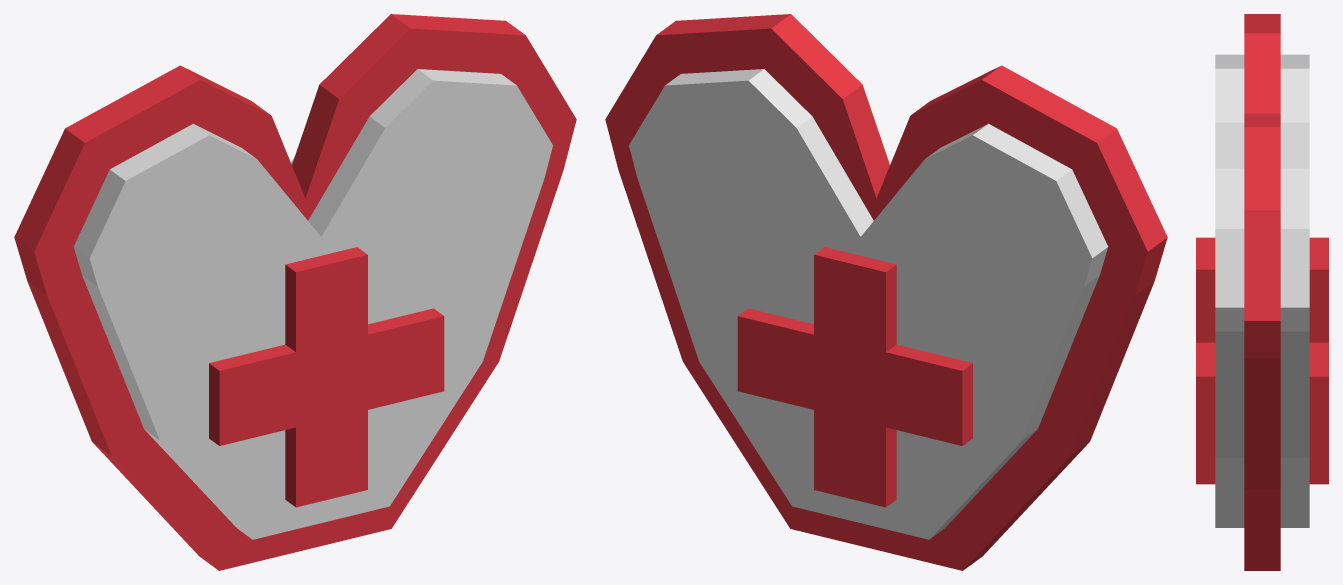
3 views of the same model, side by side, from view 1: azimuth 30°, elevation 25°; view 2: azimuth 150°, elevation 25°; view 3: azimuth 270°, elevation 25° (orthographic). The views are drawn at different scales.
Parts seen in each view (by area): view 1: PickupAble Hp; view 2: PickupAble Hp; view 3: PickupAble Hp.
Boxes of the visible parts, box(x1,y1,x2,y2) form: PickupAble Hp: box(14, 14, 576, 570); PickupAble Hp: box(605, 14, 1167, 570); PickupAble Hp: box(1196, 14, 1328, 570).
Size of the model in its own units: 2.73 by 2.38 by 0.6352.
